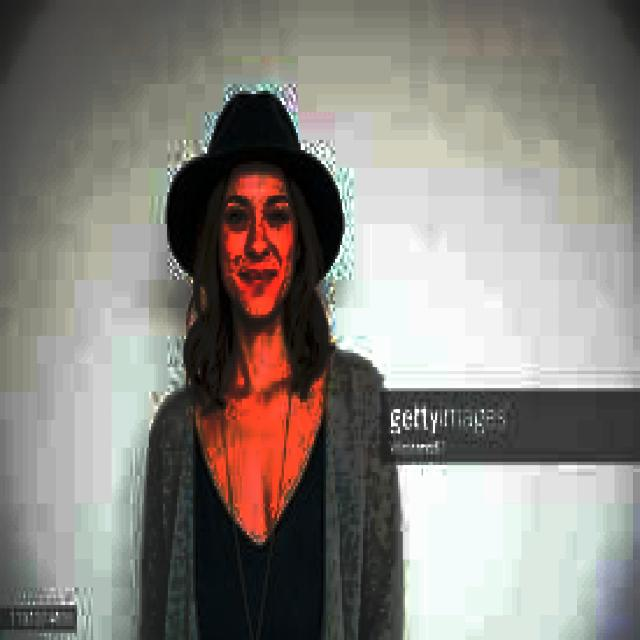TOPI: (161, 80, 342, 284)
